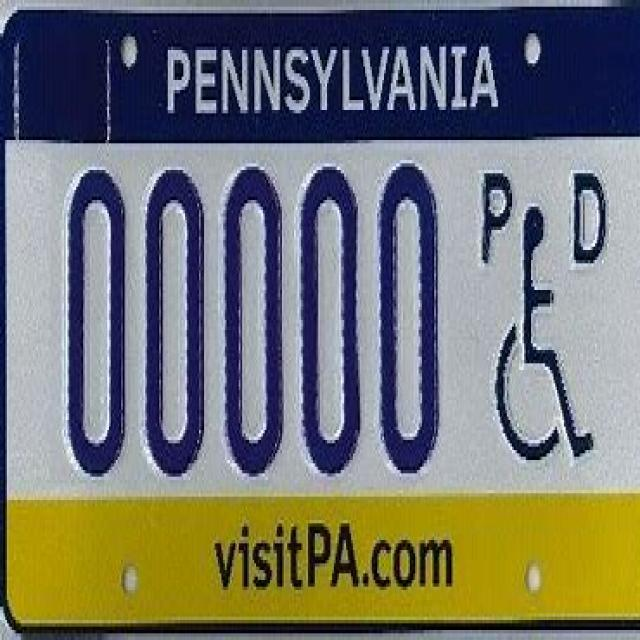symbol_of_access: (494, 202, 596, 467)
